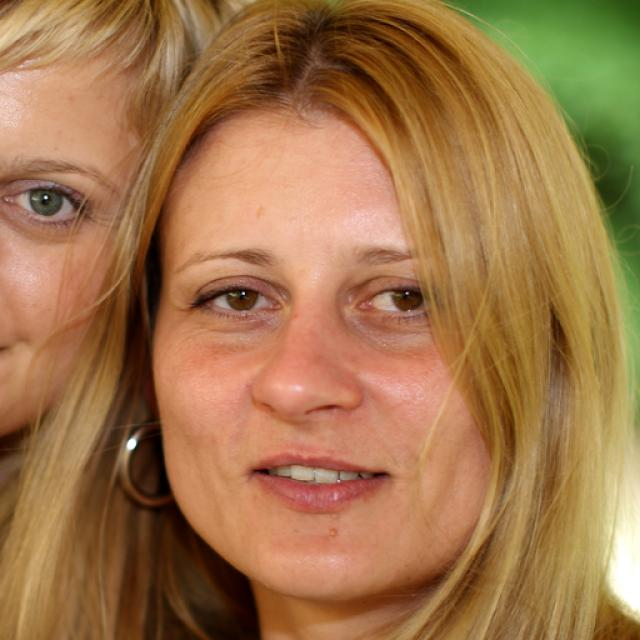Acne: (326, 510, 345, 526), (325, 527, 341, 541)
